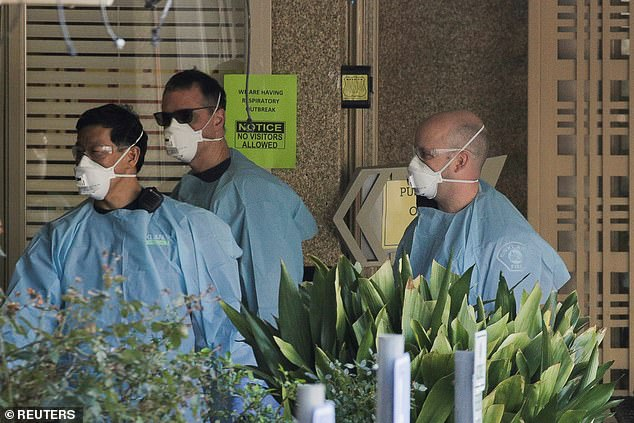n95: (159, 112, 210, 166), (400, 150, 448, 201), (67, 156, 116, 204)
